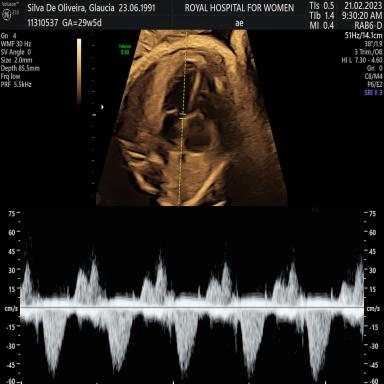Ultrasound-Waves: (24, 213, 361, 384)
